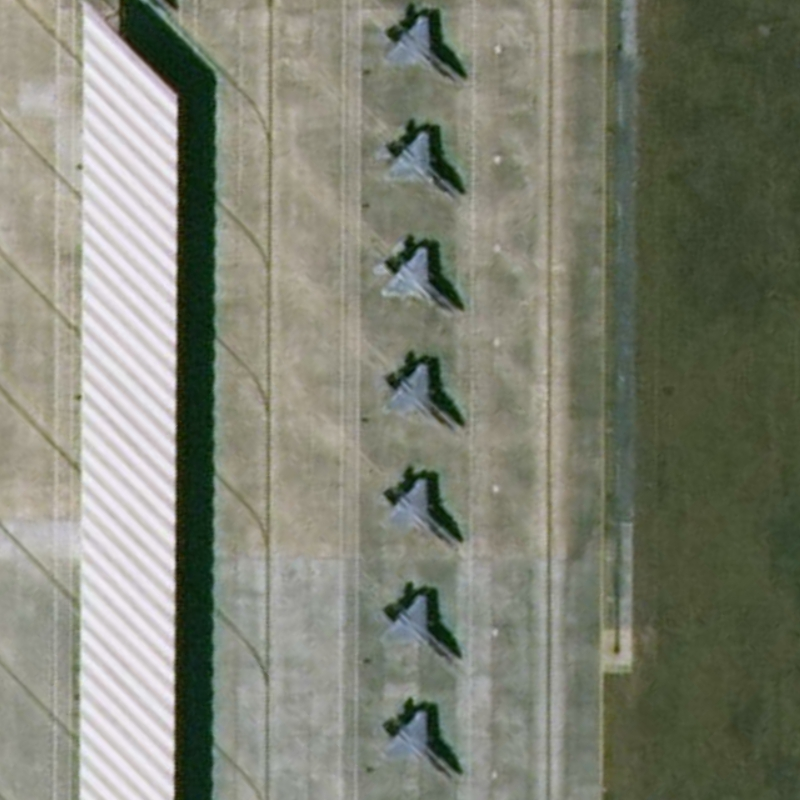A13: (367, 698, 457, 787), (368, 238, 463, 320), (368, 120, 459, 205), (371, 587, 466, 666), (371, 469, 459, 553), (374, 10, 464, 92), (378, 360, 459, 435)
